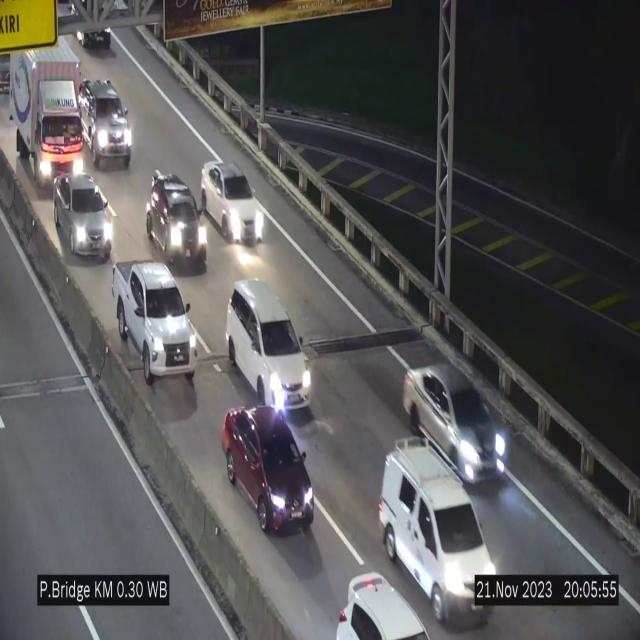Car: (378, 435, 496, 624), (108, 256, 204, 390), (401, 361, 505, 483), (222, 406, 316, 531), (226, 282, 312, 416), (322, 563, 449, 640), (52, 168, 118, 272), (150, 169, 208, 277), (78, 78, 136, 174), (201, 162, 264, 242)
Truck: (10, 26, 80, 183)
